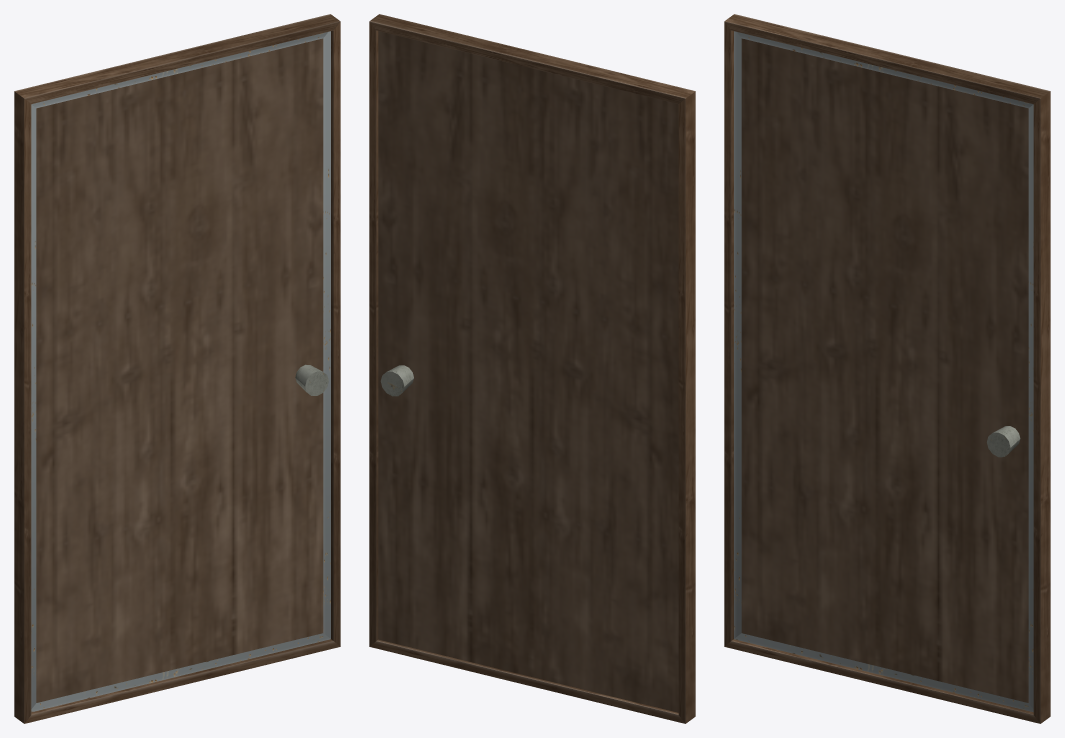
The model's file is bil_door3wo.fbx.
3 renders of one model, left to right at view 1: azimuth 30°, elevation 25°; view 2: azimuth 150°, elevation 25°; view 3: azimuth 330°, elevation 25°, orthographic.
Visible parts, largest first — view 1: bil_door3wo_b, bil_door3wo_a; view 2: bil_door3wo_b, bil_door3wo_a; view 3: bil_door3wo_b, bil_door3wo_a.
Boxes of the visible parts, left/top/right/bottom form: bil_door3wo_b: left=31, top=31, right=330, bottom=712; bil_door3wo_a: left=14, top=14, right=340, bottom=723; bil_door3wo_b: left=378, top=31, right=678, bottom=712; bil_door3wo_a: left=369, top=14, right=695, bottom=723; bil_door3wo_b: left=734, top=31, right=1033, bottom=712; bil_door3wo_a: left=724, top=14, right=1050, bottom=723.
Bounding box in the file's own units: 111 × 209 × 17.45.
